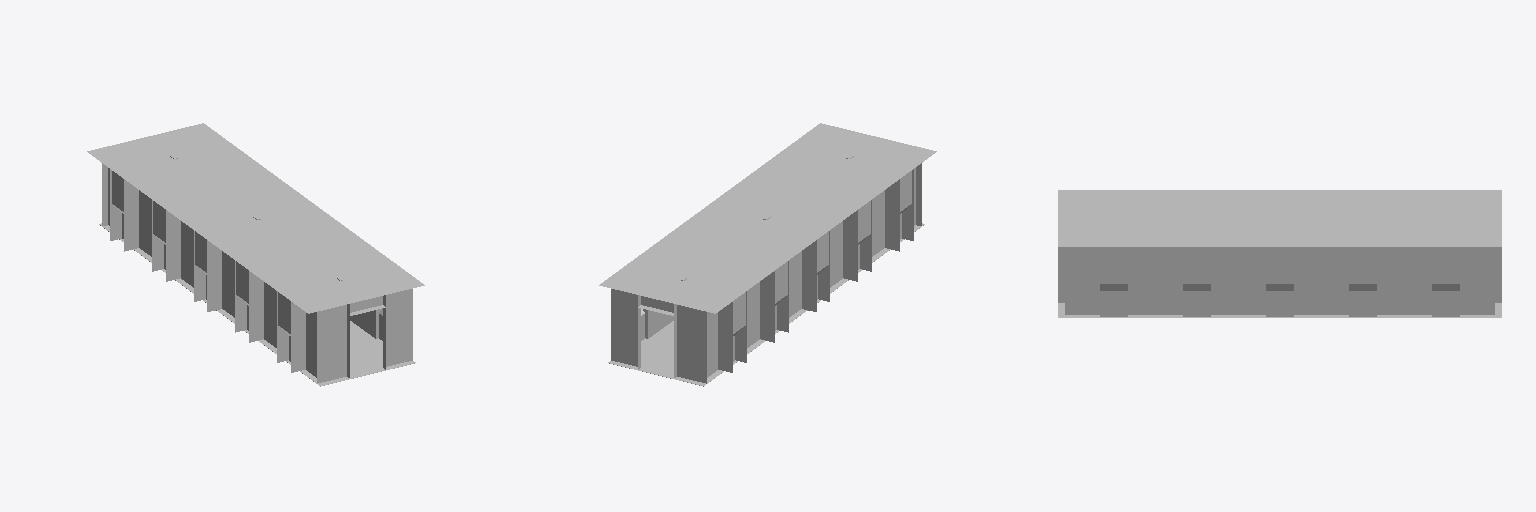
The model's file is Room2_5.obj.
3 renders of one model, left to right at view 1: azimuth 30°, elevation 25°; view 2: azimuth 150°, elevation 25°; view 3: azimuth 270°, elevation 25°, orthographic.
Parts seen in each view (by area): view 1: Scene_Root; view 2: Scene_Root; view 3: Scene_Root.
Part boxes in pixels (bbox=[...]): Scene_Root: bbox=[87, 123, 424, 386]; Scene_Root: bbox=[599, 123, 936, 386]; Scene_Root: bbox=[1058, 190, 1501, 317].
Bounding box in the file's own units: 6.24 × 3.88 × 20.48.